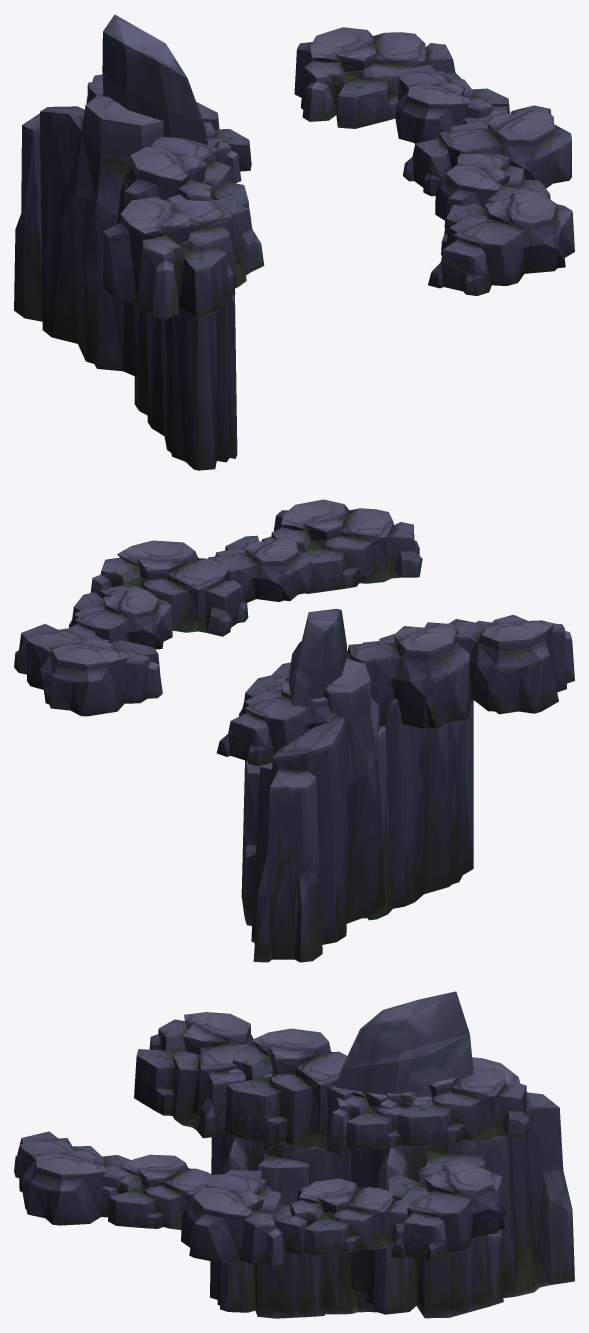
Rendered from Area07_9.fbx.
3 views of the same model, one above another, from view 1: azimuth 30°, elevation 25°; view 2: azimuth 150°, elevation 25°; view 3: azimuth 270°, elevation 25° (orthographic). The views are drawn at different scales.
Parts seen in each view (by area): view 1: Area07_9; view 2: Area07_9; view 3: Area07_9.
Part boxes in pixels (<box>): Area07_9: <box>14,14,574,470</box>; Area07_9: <box>14,499,574,962</box>; Area07_9: <box>14,991,574,1318</box>.
Bounding box in the file's own units: 3287 × 2347 × 3713.
